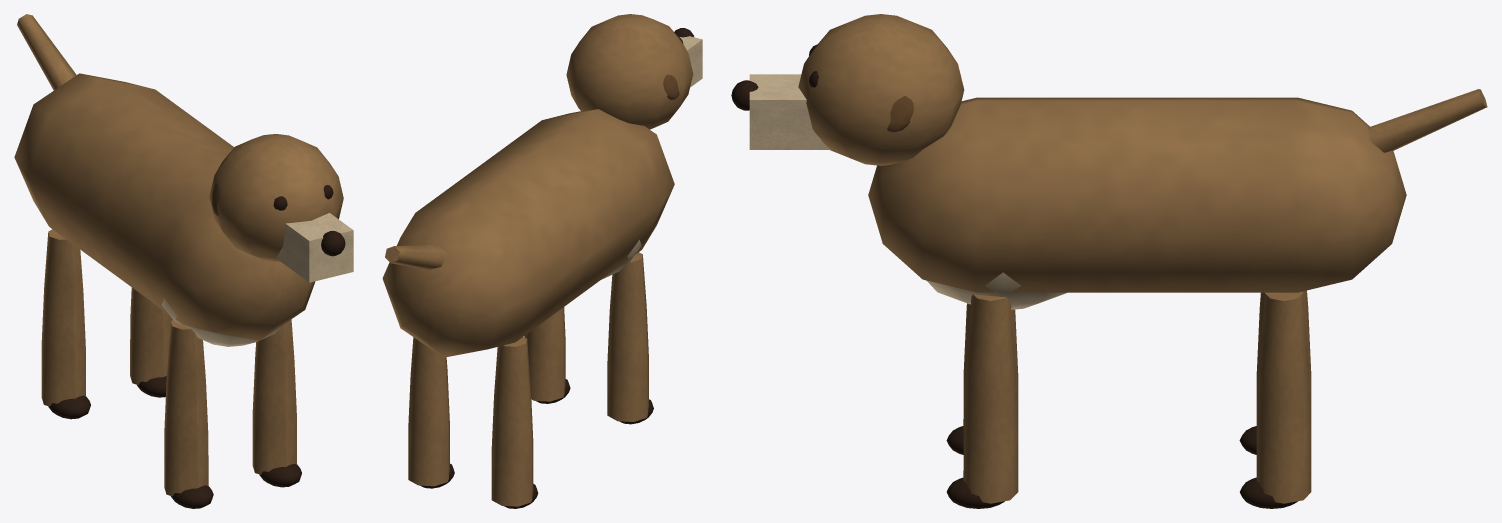
The model's file is npc_biscuit.glb.
3 views of the same model, side by side, from view 1: azimuth 30°, elevation 25°; view 2: azimuth 150°, elevation 25°; view 3: azimuth 270°, elevation 25° (orthographic). The views are drawn at different scales.
Visible parts, largest first — view 1: object 6, head, armR, legL, legR, armL; view 2: object 6, head, armR, legL, armL, legR; view 3: object 6, head, armL, legR, armR, legL.
Part boxes in pixels (bbox=[...]): object 6: bbox=[14, 14, 315, 346]; head: bbox=[209, 134, 353, 282]; armR: bbox=[41, 229, 90, 419]; legL: bbox=[164, 320, 213, 508]; legR: bbox=[252, 319, 301, 487]; armL: bbox=[130, 287, 172, 397]; object 6: bbox=[382, 109, 674, 357]; head: bbox=[566, 14, 702, 129]; armR: bbox=[491, 337, 538, 508]; legL: bbox=[607, 252, 653, 424]; armL: bbox=[408, 337, 454, 488]; legR: bbox=[524, 307, 570, 403]; object 6: bbox=[868, 89, 1487, 309]; head: bbox=[731, 14, 964, 165]; armL: bbox=[1240, 291, 1311, 508]; legR: bbox=[946, 294, 1018, 508]; armR: bbox=[1239, 290, 1311, 454]; legL: bbox=[946, 303, 1018, 454].
Bounding box in the file's own units: 0.34 × 0.8278 × 1.24.
Materials: 1 (1 with a texture image).
